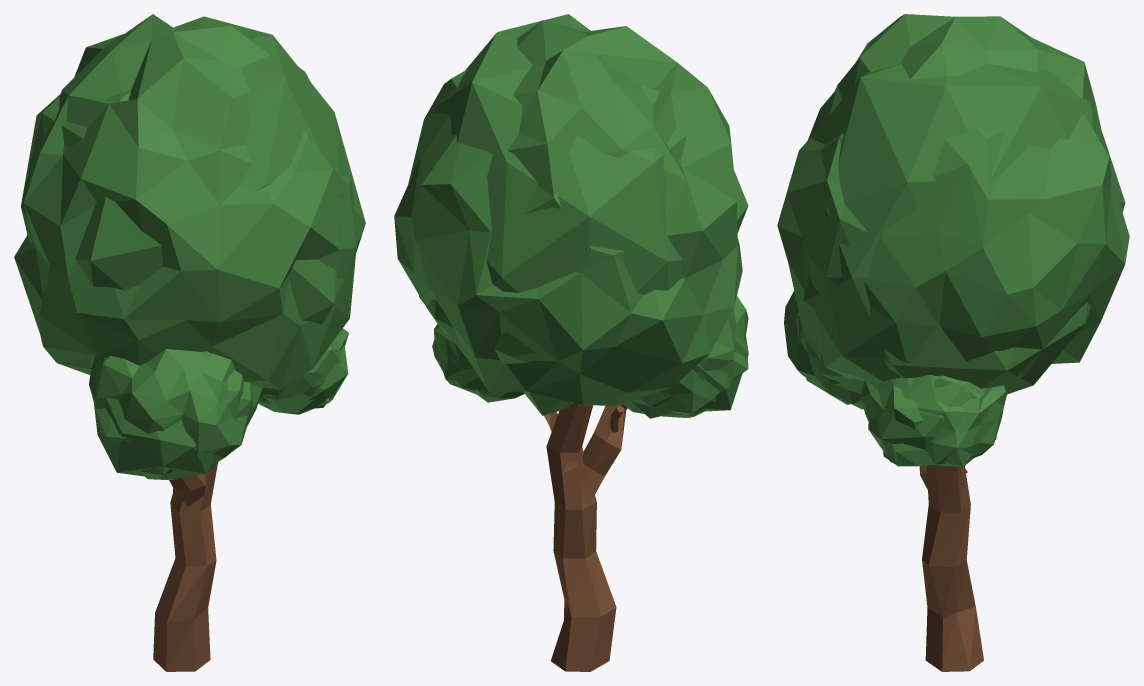
The model's file is TTree1.fbx.
3 renders of one model, left to right at view 1: azimuth 30°, elevation 25°; view 2: azimuth 150°, elevation 25°; view 3: azimuth 270°, elevation 25°, orthographic. The views are drawn at different scales.
Parts seen in each view (by area): view 1: GeneratedLeaves, LOD_Test_2, GeneratedLeaves_1, GeneratedBranch, LOD_Test, GeneratedLeaves_2, LOD_Test_1, GeneratedBranch_1; view 2: GeneratedLeaves, LOD_Test_2, GeneratedBranch, GeneratedLeaves_1, GeneratedBranch_1, GeneratedLeaves_2, LOD_Test; view 3: GeneratedLeaves, LOD_Test_2, GeneratedBranch, GeneratedLeaves_2, LOD_Test_1, GeneratedLeaves_1.
Boxes of the visible parts, x1,y1,x2,y2 form: GeneratedLeaves: [14, 14, 358, 398]; LOD_Test_2: [21, 16, 365, 395]; GeneratedLeaves_1: [89, 349, 262, 479]; GeneratedBranch: [153, 462, 217, 671]; LOD_Test: [94, 351, 243, 479]; GeneratedLeaves_2: [258, 328, 348, 414]; LOD_Test_1: [259, 345, 348, 408]; GeneratedBranch_1: [169, 474, 205, 506]; GeneratedLeaves: [394, 20, 742, 415]; LOD_Test_2: [419, 14, 748, 364]; GeneratedBranch: [546, 403, 616, 671]; GeneratedLeaves_1: [624, 296, 748, 417]; GeneratedBranch_1: [572, 403, 627, 505]; GeneratedLeaves_2: [432, 324, 524, 402]; LOD_Test: [632, 332, 748, 418]; GeneratedLeaves: [777, 14, 1129, 381]; LOD_Test_2: [803, 64, 1125, 394]; GeneratedBranch: [922, 465, 983, 671]; GeneratedLeaves_2: [861, 375, 1006, 466]; LOD_Test_1: [868, 374, 996, 466]; GeneratedLeaves_1: [784, 291, 863, 409].
Size of what is drawn, in the model's own units: 906 by 1816 by 904.
